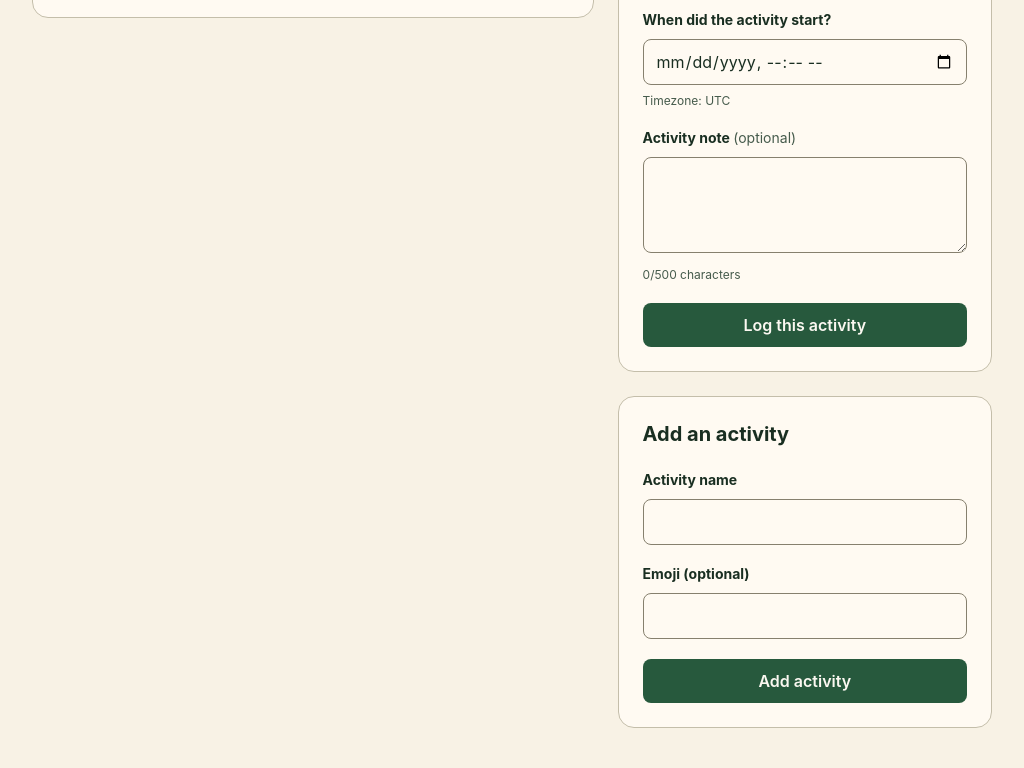
Test case: EnrichmentPage › renders constrained activity rows and creates a normalized Cafe visit
(page scrolled)
Type "  Cafe visit  " into the field labelled "Activity name" at (805, 522), box [643,499,967,545]
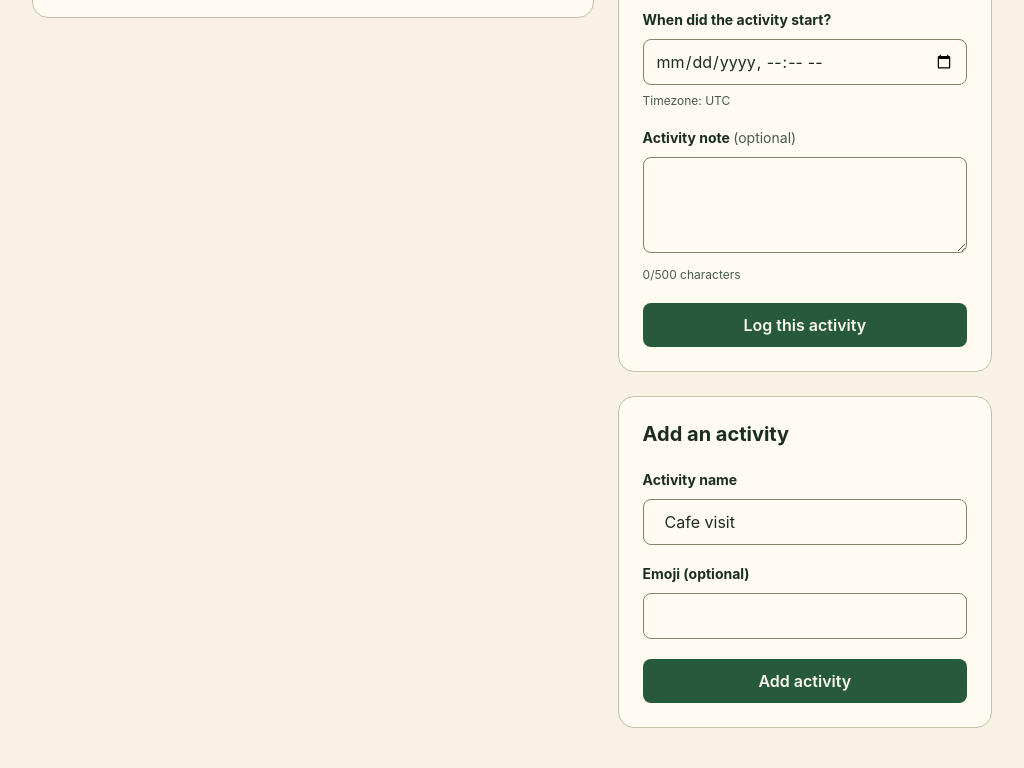
Type "  ☕  " into the field labelled "Emoji (optional)" at (805, 616), box [643,593,967,639]
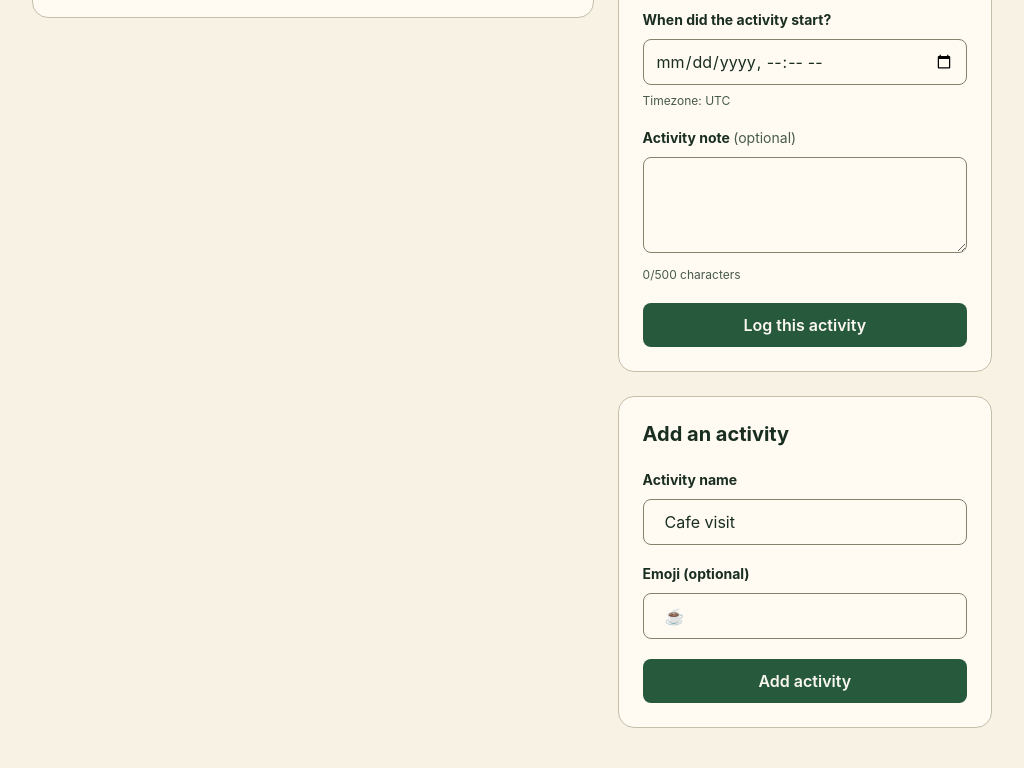
Click the button "Add activity" at (805, 681), box [643,659,967,703]
(page scrolled)
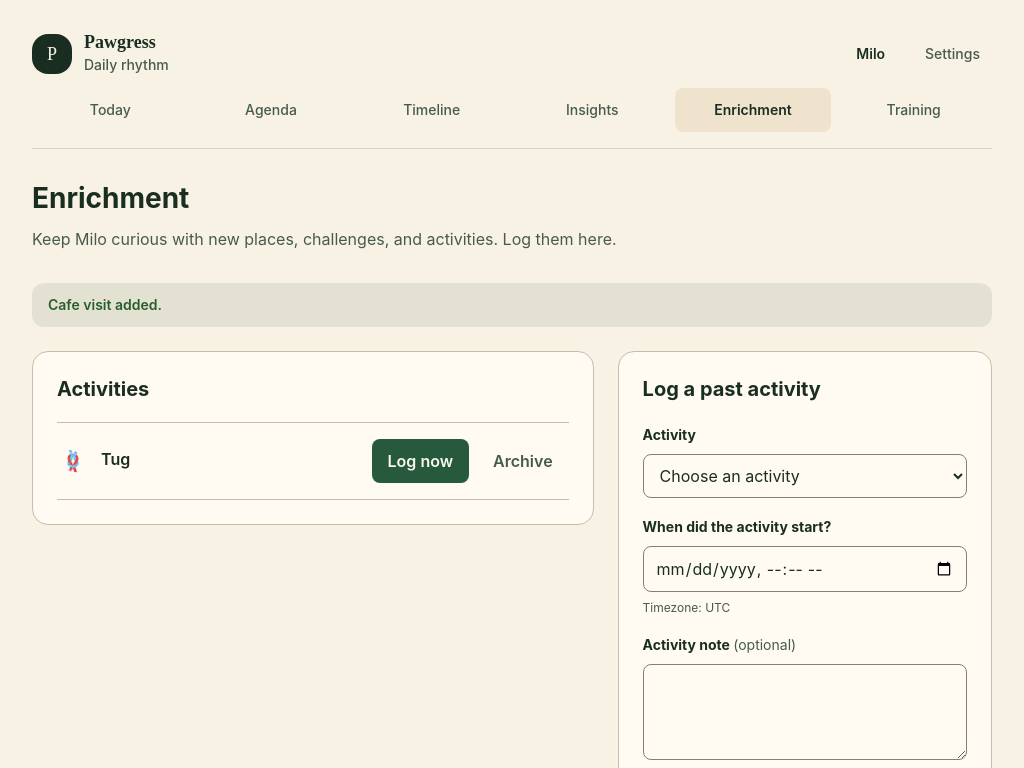
Now the message shows "Cafe visit added", box [48,296,162,313]
